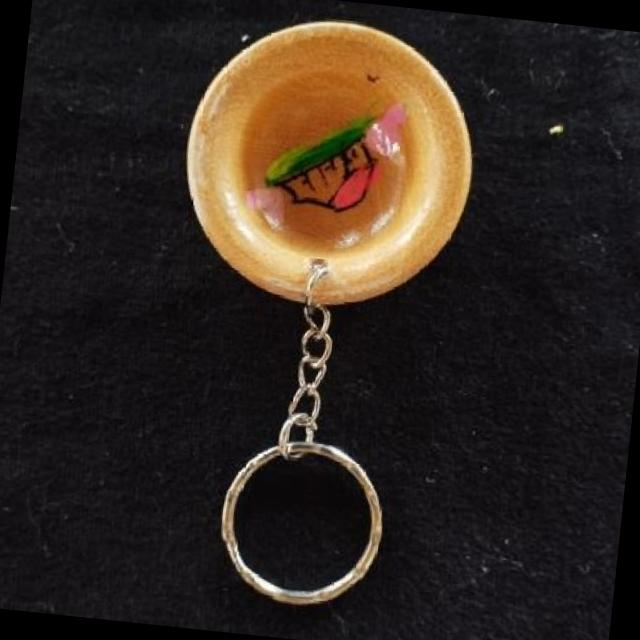Llavero: (171, 6, 487, 322)
